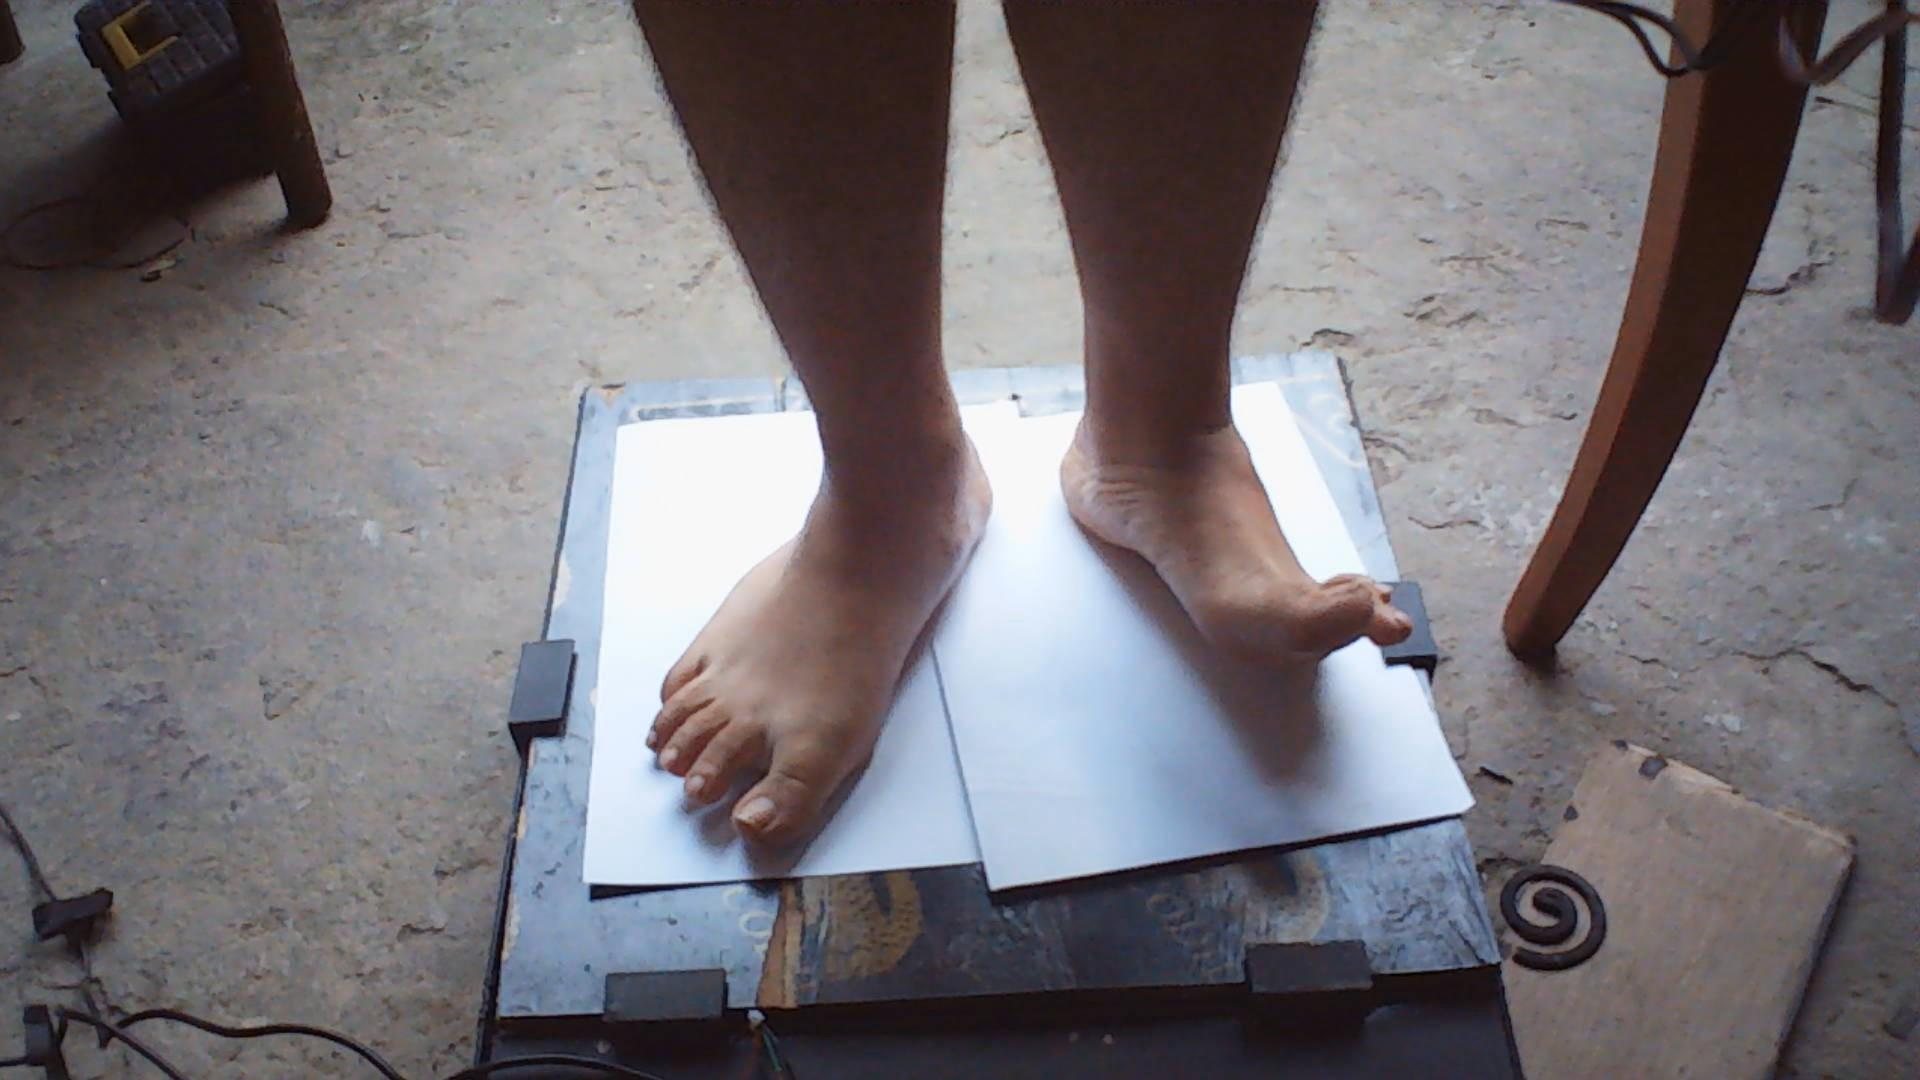Bare_feet: (608, 444, 1007, 876), (1040, 426, 1412, 725)
